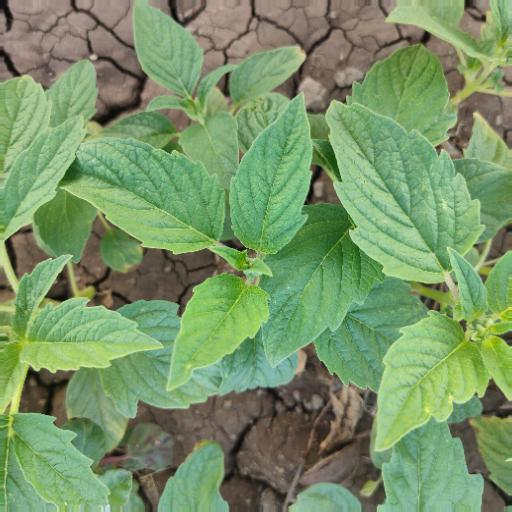crop: (11, 1, 506, 507)
